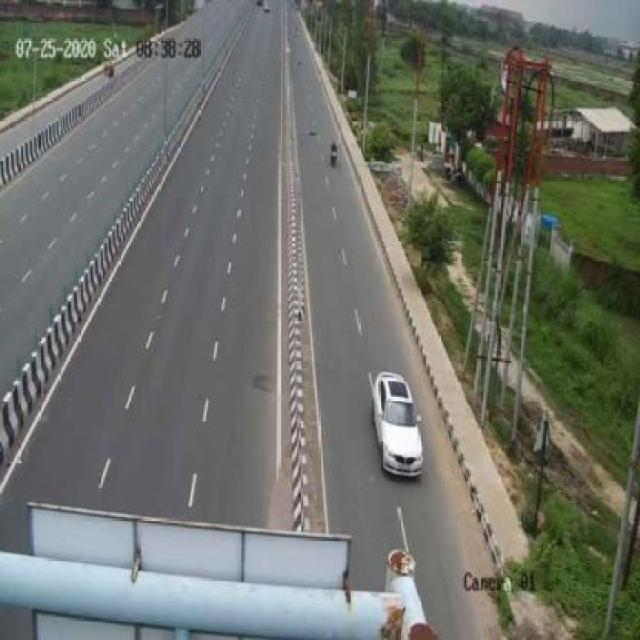car: (372, 372, 431, 480)
